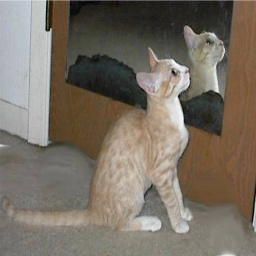cat: (95, 24, 226, 231)
